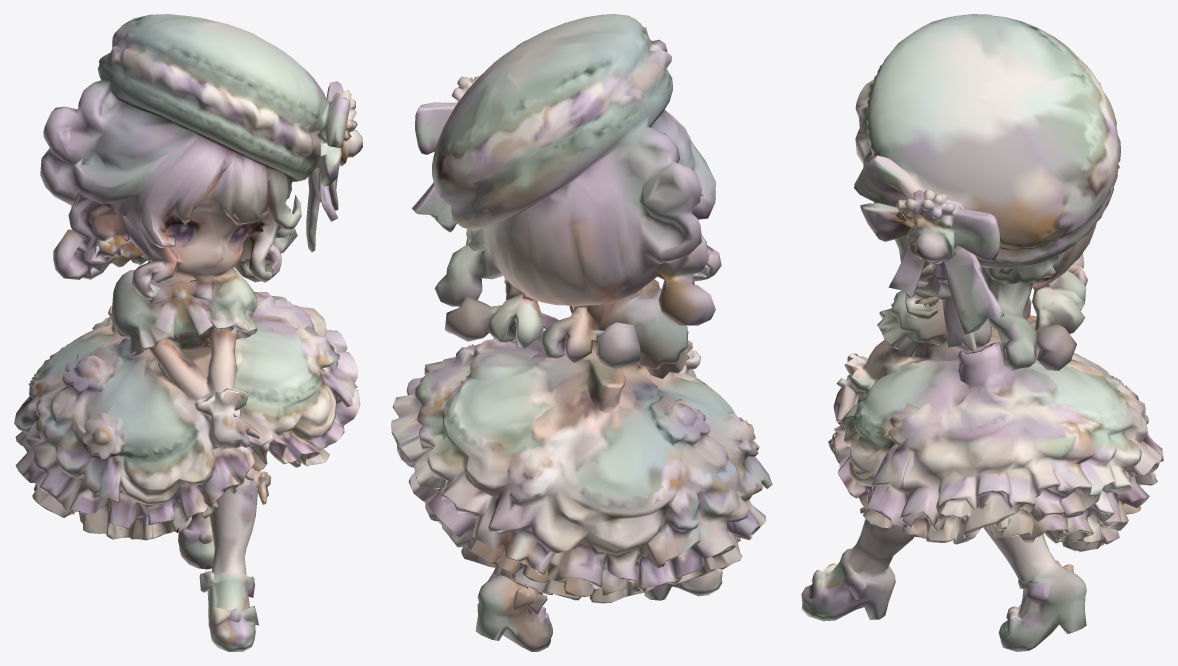
Rendered from original.glb.
3 renders of one model, left to right at view 1: azimuth 30°, elevation 25°; view 2: azimuth 150°, elevation 25°; view 3: azimuth 270°, elevation 25°, orthographic. The views are drawn at different scales.
Visible parts, largest first — view 1: Body; view 2: Body; view 3: Body.
Boxes of the visible parts, left/top/right/bottom form: Body: left=14, top=14, right=362, bottom=651; Body: left=391, top=14, right=772, bottom=651; Body: left=801, top=14, right=1163, bottom=651.
Size of the model in its own units: 0.5735 by 1 by 0.5482.
Materials: 1 (1 with a texture image).
